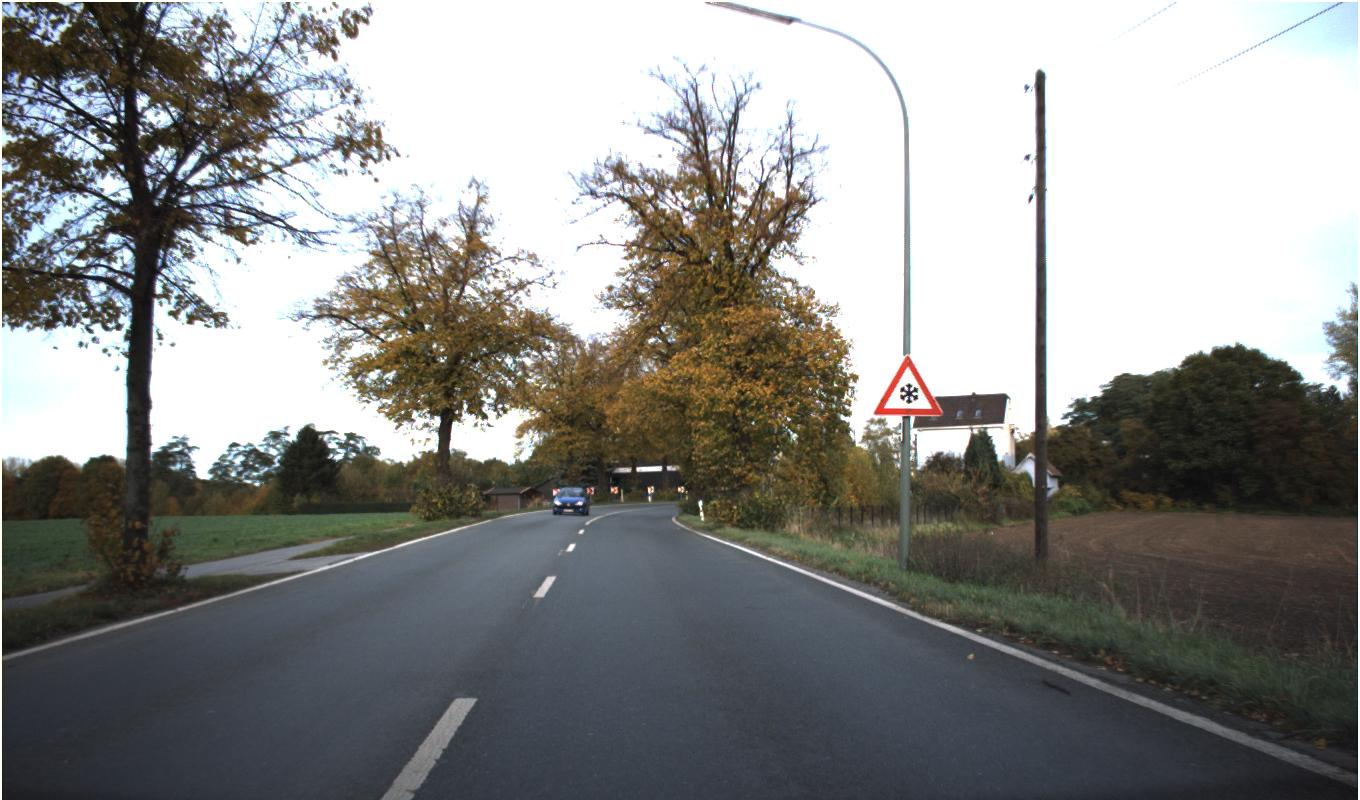danger: (872, 353, 943, 416)
